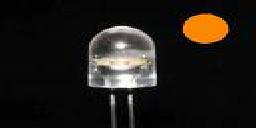LED: (86, 22, 160, 128)
